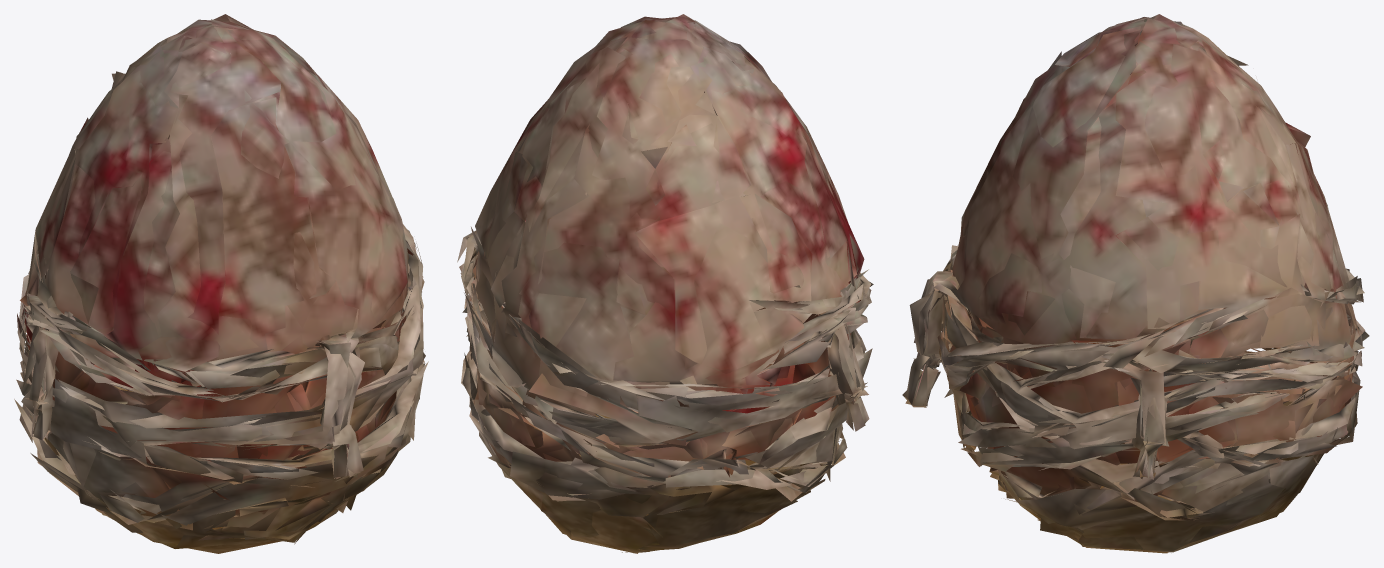
File: silk-egg.glb
The picture shows the model from 3 angles, left to right: view 1: azimuth 30°, elevation 25°; view 2: azimuth 150°, elevation 25°; view 3: azimuth 270°, elevation 25°; orthographic projection.
Visible parts, largest first — view 1: SilkEgg; view 2: SilkEgg; view 3: SilkEgg.
Boxes of the visible parts, bbox=[...] form: SilkEgg: bbox=[14, 14, 428, 553]; SilkEgg: bbox=[457, 14, 873, 553]; SilkEgg: bbox=[902, 14, 1369, 553].
Size of the model in its own units: 0.2876 by 0.3539 by 0.2931.
1 material, 1 textured.
